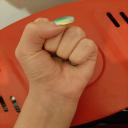Fist: (14, 15, 100, 100)
